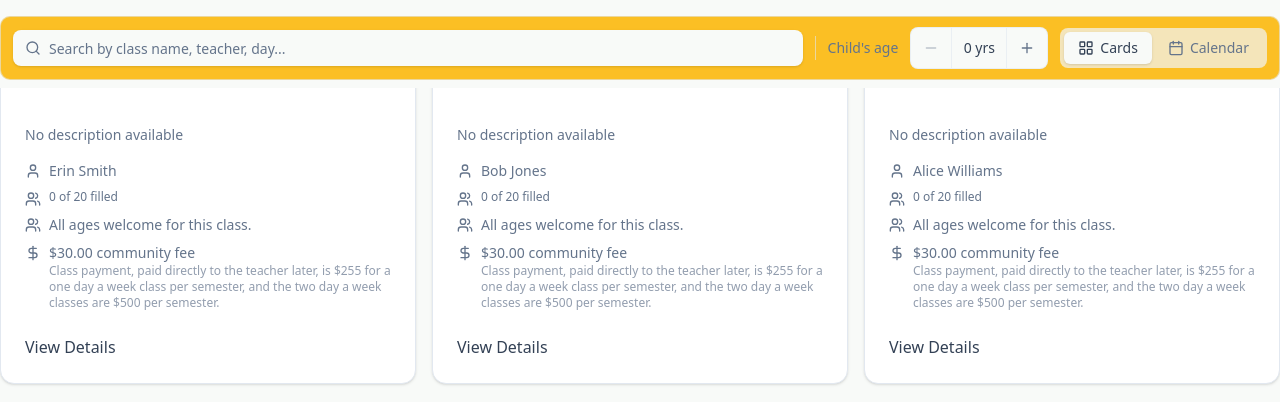
Scenario: ClassGrid text search › shows result count when search is active
Type "Erin" into the field with test id "class-search-input" at point(408, 48), box [13,30,803,66]
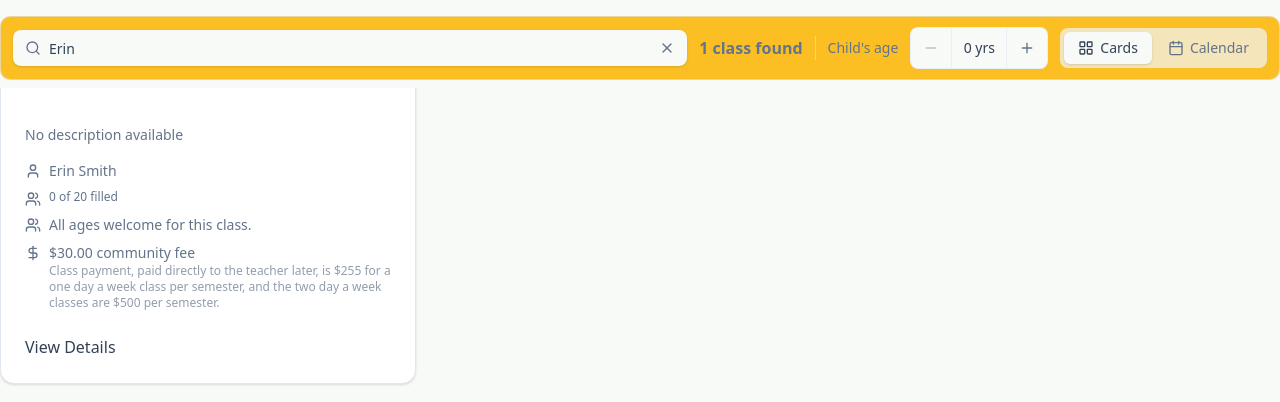
Result: the text "1 class found" is shown at [699,36,802,60]
